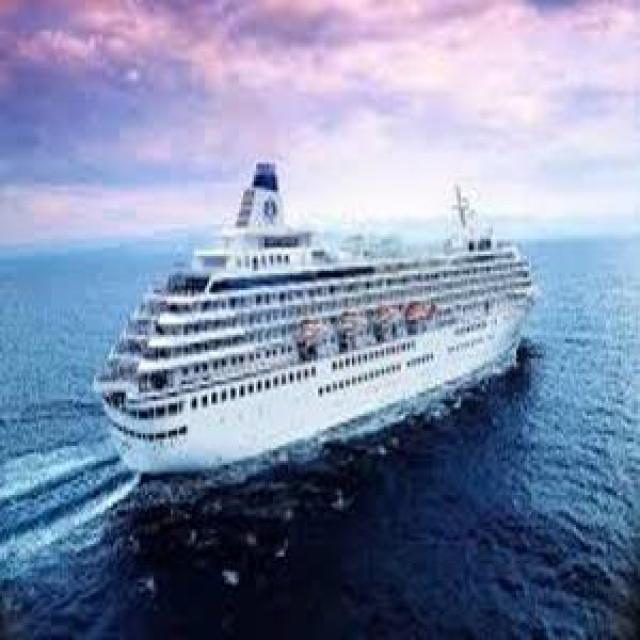passenger ship: (104, 156, 534, 472)
